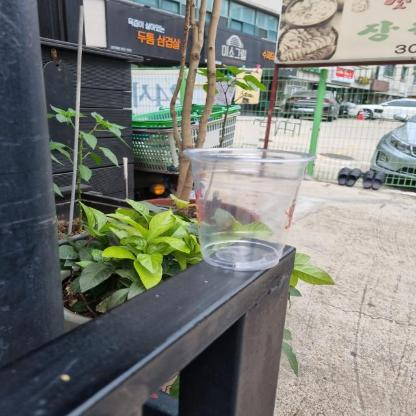Plastic Cup: (181, 148, 320, 274)
